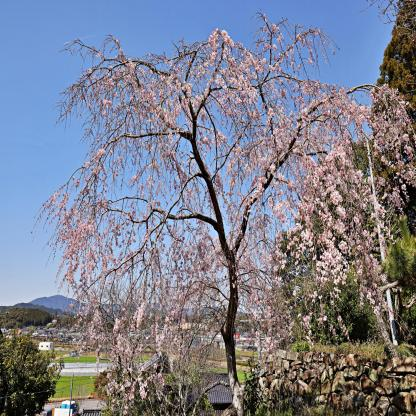ShidareZakura: (28, 7, 416, 416)
